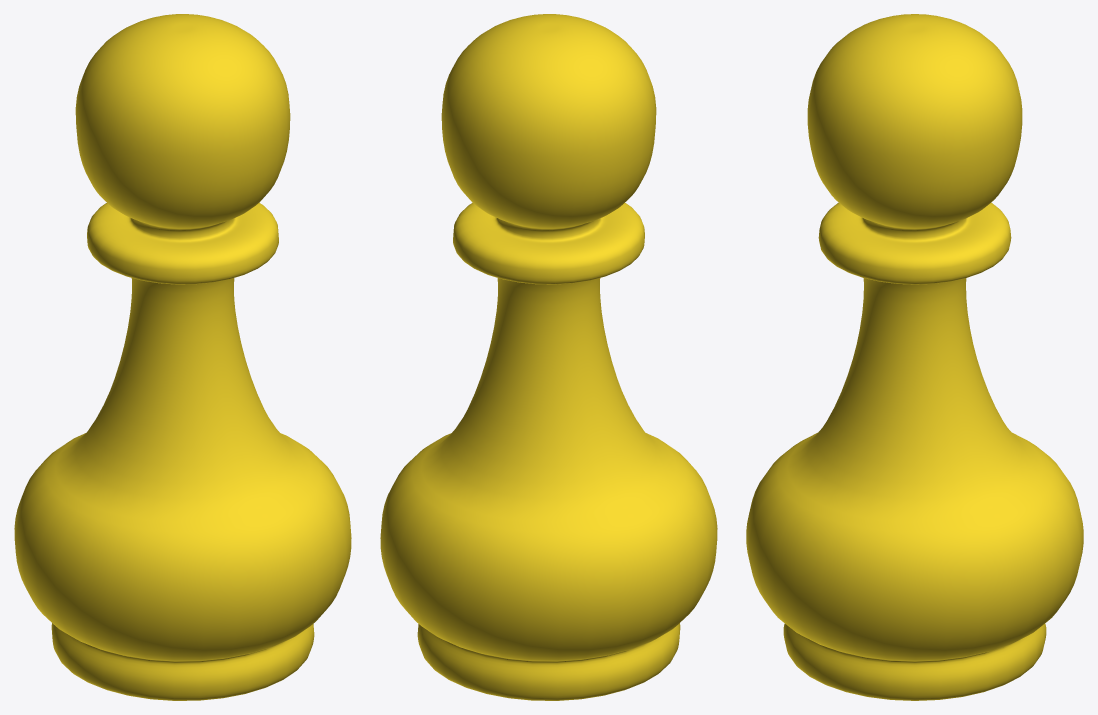
Rendered from Pawn_Yellow.fbx.
The picture shows the model from 3 angles, left to right: view 1: azimuth 30°, elevation 25°; view 2: azimuth 150°, elevation 25°; view 3: azimuth 270°, elevation 25°; orthographic projection.
Visible parts, largest first — view 1: Pawn_Yellow; view 2: Pawn_Yellow; view 3: Pawn_Yellow.
Part boxes in pixels (bbox=[...]): Pawn_Yellow: bbox=[14, 14, 351, 700]; Pawn_Yellow: bbox=[380, 14, 717, 700]; Pawn_Yellow: bbox=[746, 14, 1083, 700].
Size of the model in its own units: 0.2641 by 0.5369 by 0.2641.
Materials: 1 (1 with a texture image).
